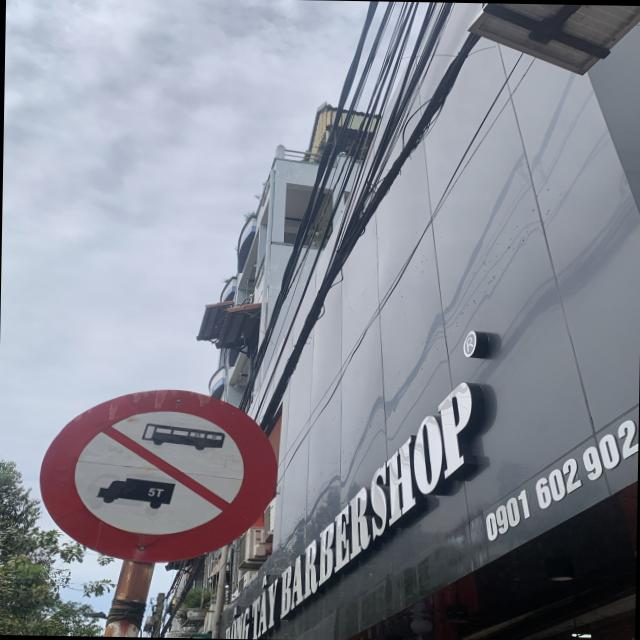Cam_XeTai_XeKhach: (40, 386, 279, 564)
